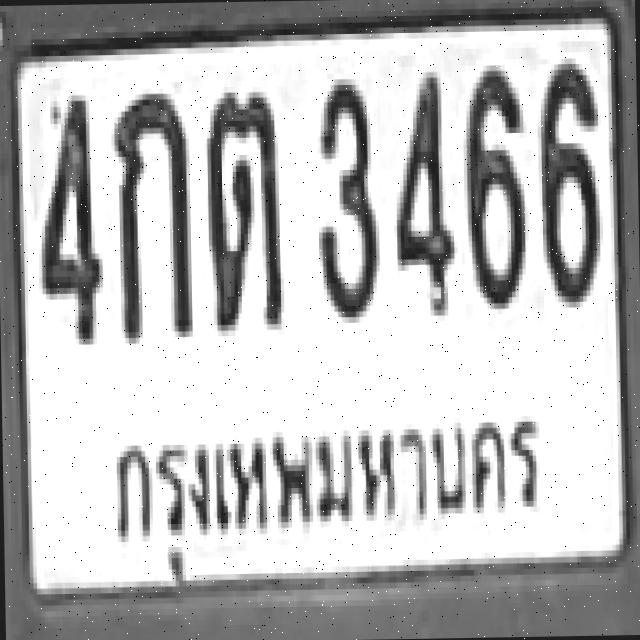10GorGai: (110, 88, 188, 338)
3: (312, 72, 377, 318)
30TorTao: (202, 86, 281, 325)
4: (35, 89, 100, 339), (390, 66, 451, 310)
6: (536, 58, 597, 302), (461, 64, 522, 304)
Bangkok: (97, 404, 561, 560)
